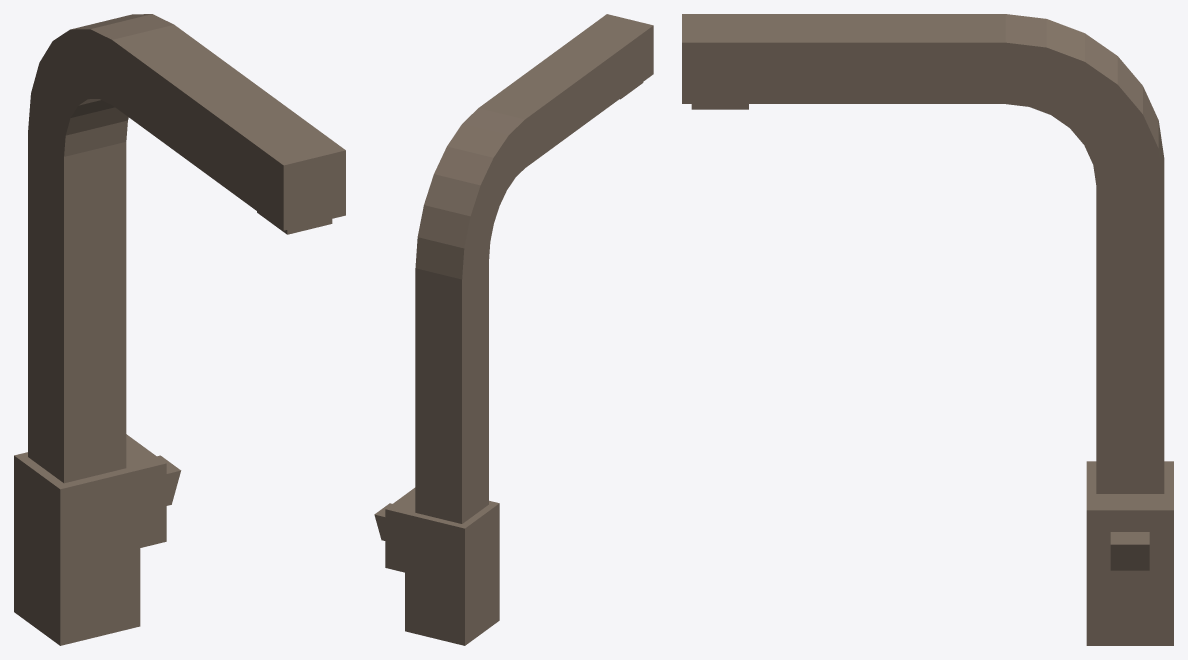
The model's file is Plumbing2_C3_01.fbx.
3 views of the same model, side by side, from view 1: azimuth 30°, elevation 25°; view 2: azimuth 150°, elevation 25°; view 3: azimuth 270°, elevation 25° (orthographic). The views are drawn at different scales.
Parts seen in each view (by area): view 1: Plumbing2_C3_01; view 2: Plumbing2_C3_01; view 3: Plumbing2_C3_01.
Boxes of the visible parts, x1,y1,x2,y2 form: Plumbing2_C3_01: (14, 14, 345, 645); Plumbing2_C3_01: (374, 14, 653, 645); Plumbing2_C3_01: (682, 14, 1173, 645).
Size of the model in its own units: 3.87 by 17.54 by 13.05.
